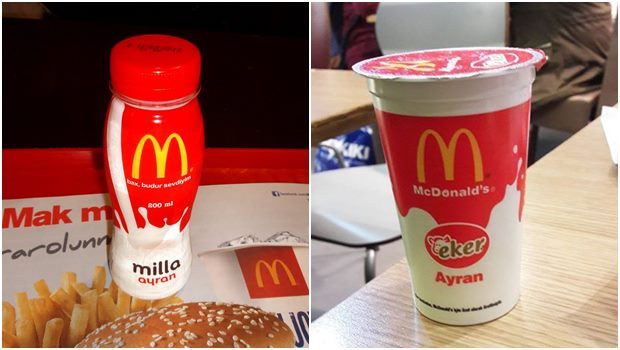mcdonalds: (407, 126, 489, 189), (125, 129, 194, 184), (237, 254, 304, 302)
